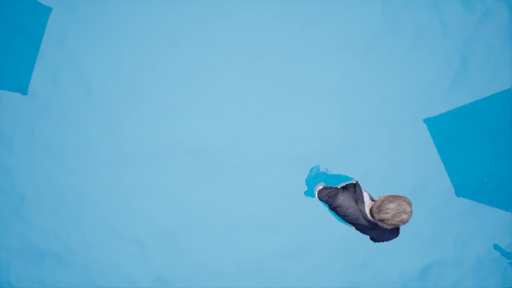person: (297, 160, 420, 248)
